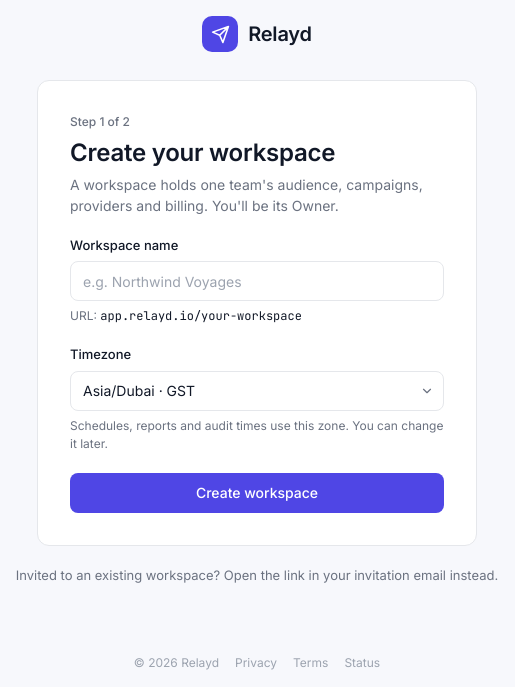
Test case: B6a Create your workspace › derives the URL from the name as it is typed
Expected: the heading "Create your workspace" is shown, [70,138,335,167]
Expected: the text "Step 1 of 2" is shown, [70,114,130,129]
Type "Northwind Voyages" into the field labelled "Workspace name".
click(257, 281); type("Northwind Voyages")  # box [70,261,444,301]
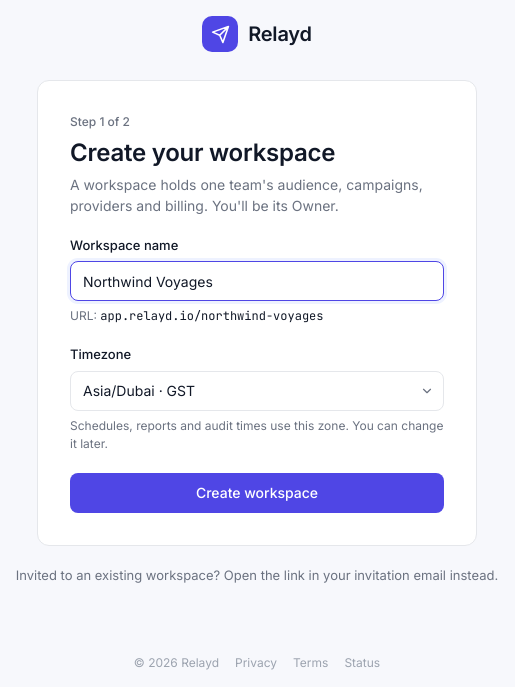
Now the text "app.relayd.io/northwind-voyages" is shown, box [100,308,324,324]
